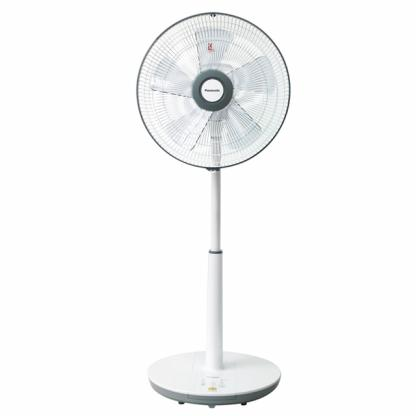fan: (131, 7, 295, 409)
